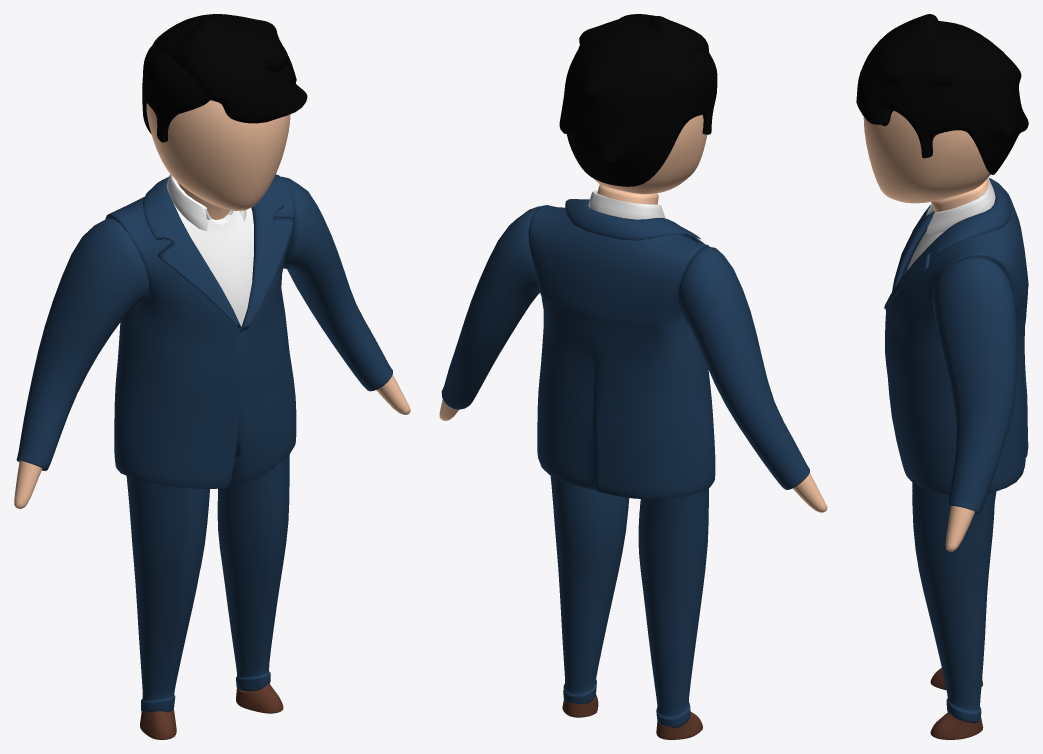
File: character.fbx
3 renders of one model, left to right at view 1: azimuth 30°, elevation 25°; view 2: azimuth 150°, elevation 25°; view 3: azimuth 270°, elevation 25°, orthographic. The views are drawn at different scales.
Parts seen in each view (by area): view 1: Suit Torso, Pants, Suit Sleeves, Hair, Head.001, Shirt, Shoes.002, Arms; view 2: Suit Torso, Pants, Suit Sleeves, Hair, Head.001, Shirt, Shoes.002, Arms, Neck.001; view 3: Suit Torso, Hair, Suit Sleeves, Pants, Head.001, Shirt, Shoes.002, Arms, Neck.001.
Boxes of the visible parts, box(x1,y1,x2,y2) form: Suit Torso: box(105, 174, 296, 488); Pants: box(126, 455, 289, 712); Suit Sleeves: box(16, 176, 392, 470); Hair: box(142, 14, 307, 142); Head.001: box(146, 100, 290, 210); Shirt: box(166, 174, 253, 460); Shoes.002: box(140, 684, 283, 739); Arms: box(14, 374, 410, 508); Suit Torso: box(528, 199, 715, 499); Pants: box(550, 475, 708, 728); Suit Sleeves: box(441, 206, 809, 489); Hair: box(559, 14, 717, 186); Head.001: box(593, 115, 707, 193); Shirt: box(588, 190, 665, 219); Shoes.002: box(562, 695, 702, 739); Arms: box(439, 399, 827, 512); Neck.001: box(597, 184, 658, 204); Suit Torso: box(884, 178, 1028, 494); Hair: box(856, 14, 1028, 174); Suit Sleeves: box(932, 257, 1017, 514); Pants: box(912, 479, 996, 722); Head.001: box(863, 111, 990, 203); Shirt: box(907, 178, 995, 270); Shoes.002: box(930, 668, 983, 739); Arms: box(945, 505, 974, 551); Neck.001: box(931, 178, 989, 212).
Bounding box in the file's own units: 97.99 × 169 × 38.36.
